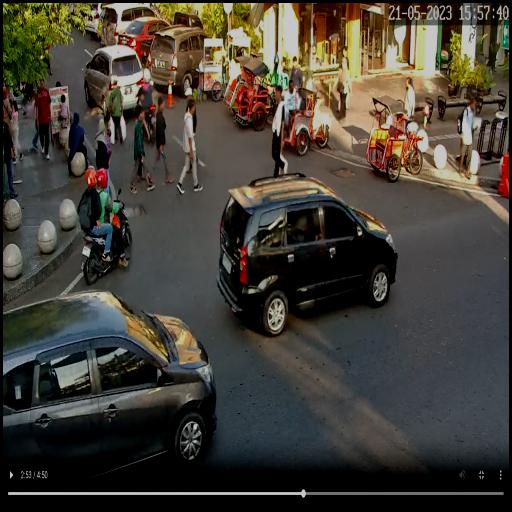mobil: (0, 283, 215, 482), (218, 173, 400, 338), (77, 40, 146, 126), (149, 25, 214, 96), (98, 2, 168, 51), (123, 12, 169, 62)
motor: (78, 188, 133, 286)
